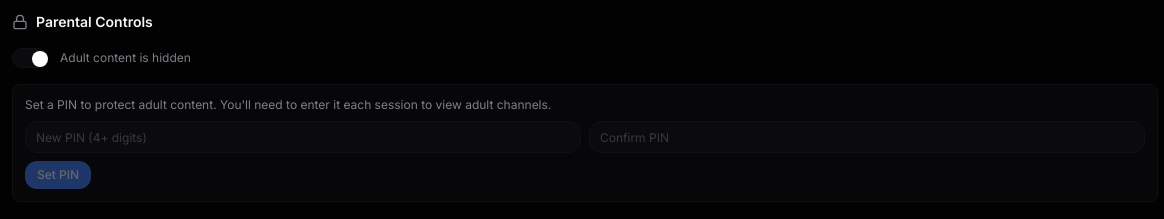
Scenario: PinSetup › accepts matching 4-digit PIN and shows success
The width and height of the screenshot is (1164, 219).
Type "2468" into the password field with placeholder "New PIN (4+ digits)". click: (303, 137)
box: [25, 121, 581, 153]
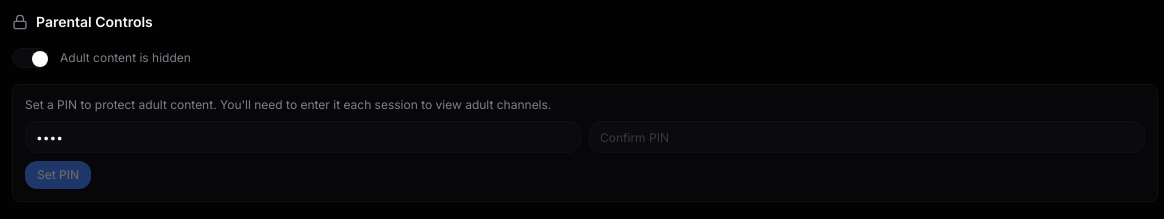
Type "2468" into the password field with placeholder "Confirm PIN". click: (867, 137)
box: [589, 121, 1145, 153]
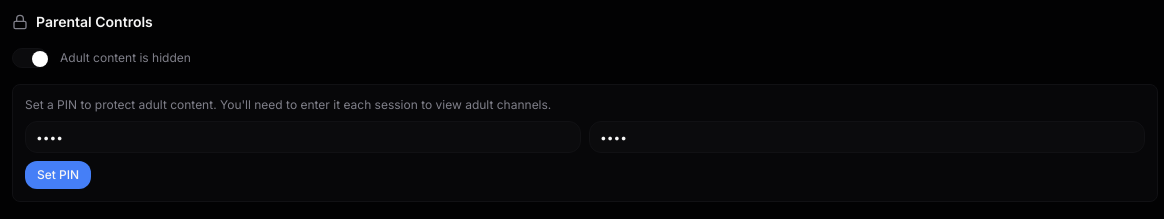
Click the button "Set PIN". click: (58, 175)
box: [25, 161, 91, 189]
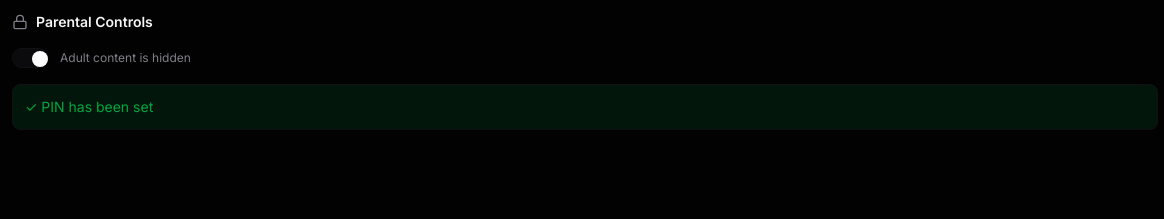
Expected: the text "✓ PIN has been set" is shown, [12, 84, 1158, 130]
